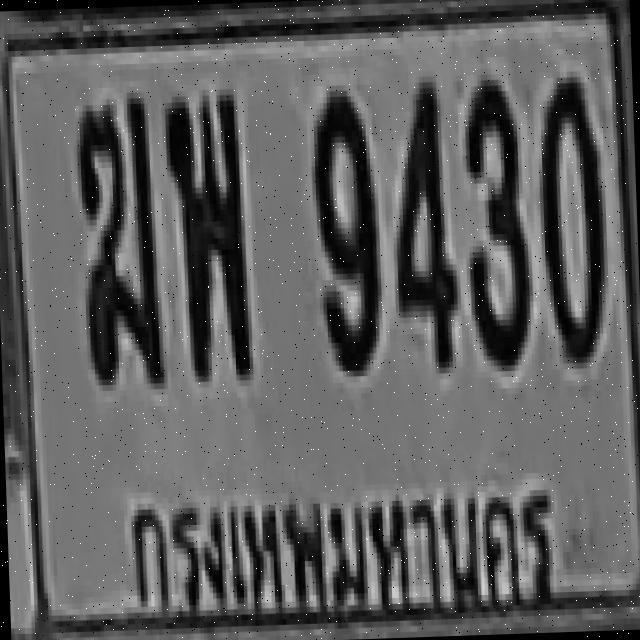0: (535, 70, 607, 363)
15KhorRaKhang: (73, 95, 162, 382)
3: (459, 73, 532, 366)
39PhorPan: (162, 88, 252, 376)
4: (387, 75, 459, 368)
9: (308, 84, 381, 371)
Bangkok: (116, 464, 556, 633)
